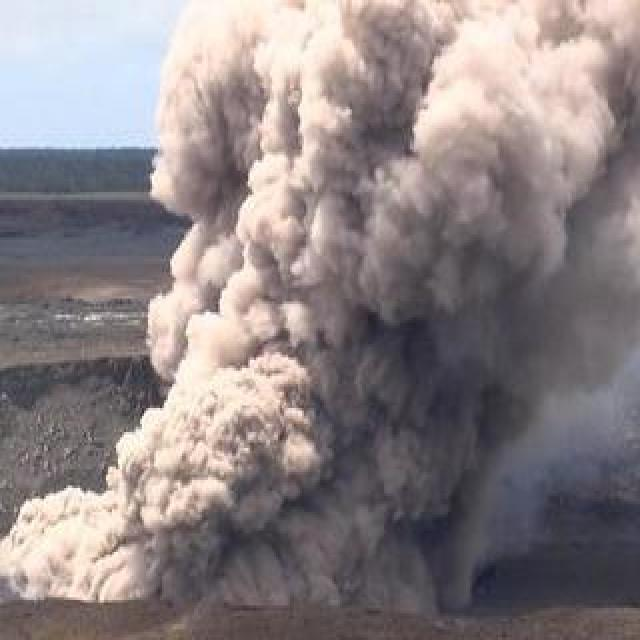Smoke: (0, 0, 639, 605)
